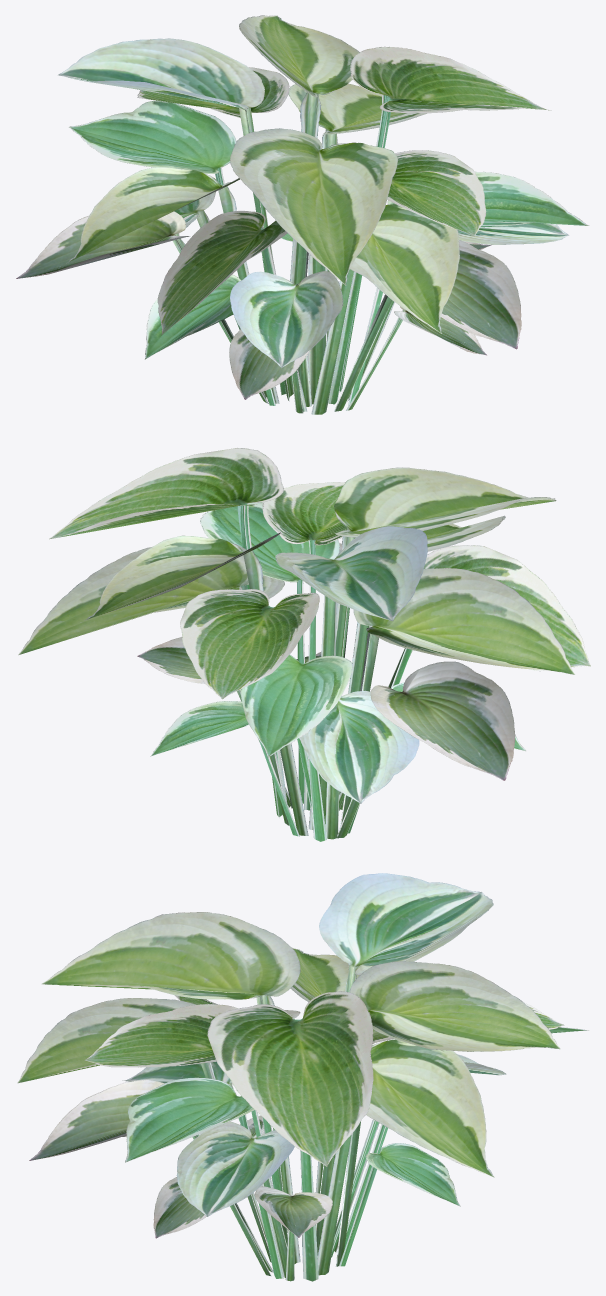
Rendered from plant_small_wg_00H2.fbx.
3 views of the same model, one above another, from view 1: azimuth 30°, elevation 25°; view 2: azimuth 150°, elevation 25°; view 3: azimuth 270°, elevation 25° (orthographic). The views are drawn at different scales.
Visible parts, largest first — view 1: plant_small_wg_00H2; view 2: plant_small_wg_00H2; view 3: plant_small_wg_00H2.
Part boxes in pixels (box(x1,y1,x2,y2)): plant_small_wg_00H2: box(16, 15, 589, 414); plant_small_wg_00H2: box(18, 448, 590, 841); plant_small_wg_00H2: box(17, 873, 588, 1281).
Size of the model in its own units: 66.88 by 42.39 by 67.88.
1 material, 1 textured.
